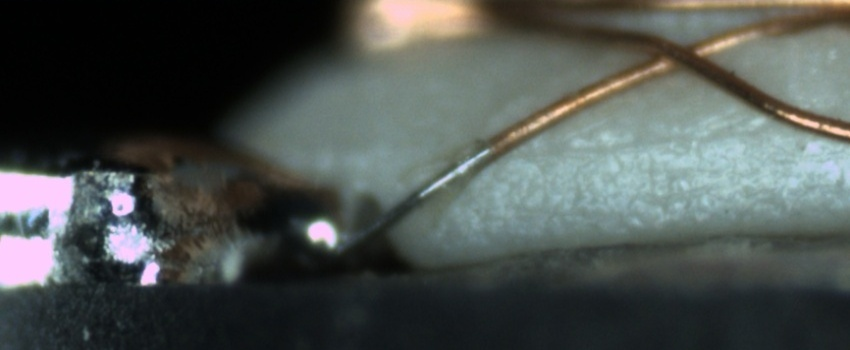CL: (641, 32, 724, 77)
DL: (512, 113, 783, 177)
TS: (330, 143, 497, 262)
TTCW: (342, 110, 547, 251)
